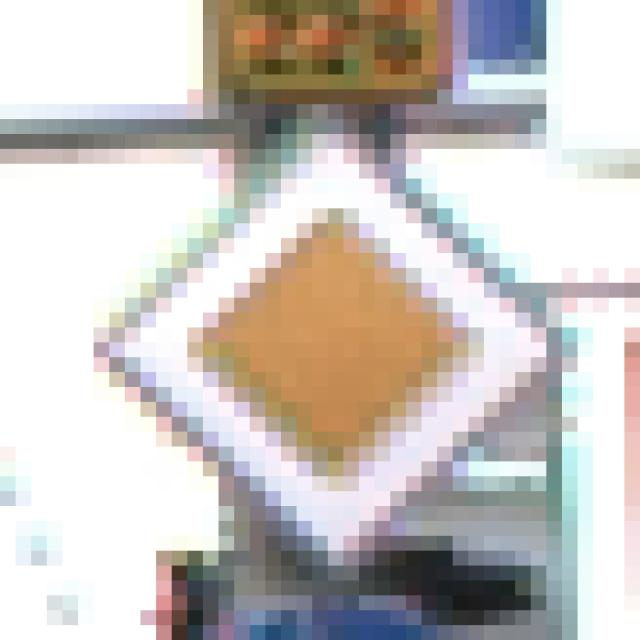Main Road: (79, 76, 563, 567)
